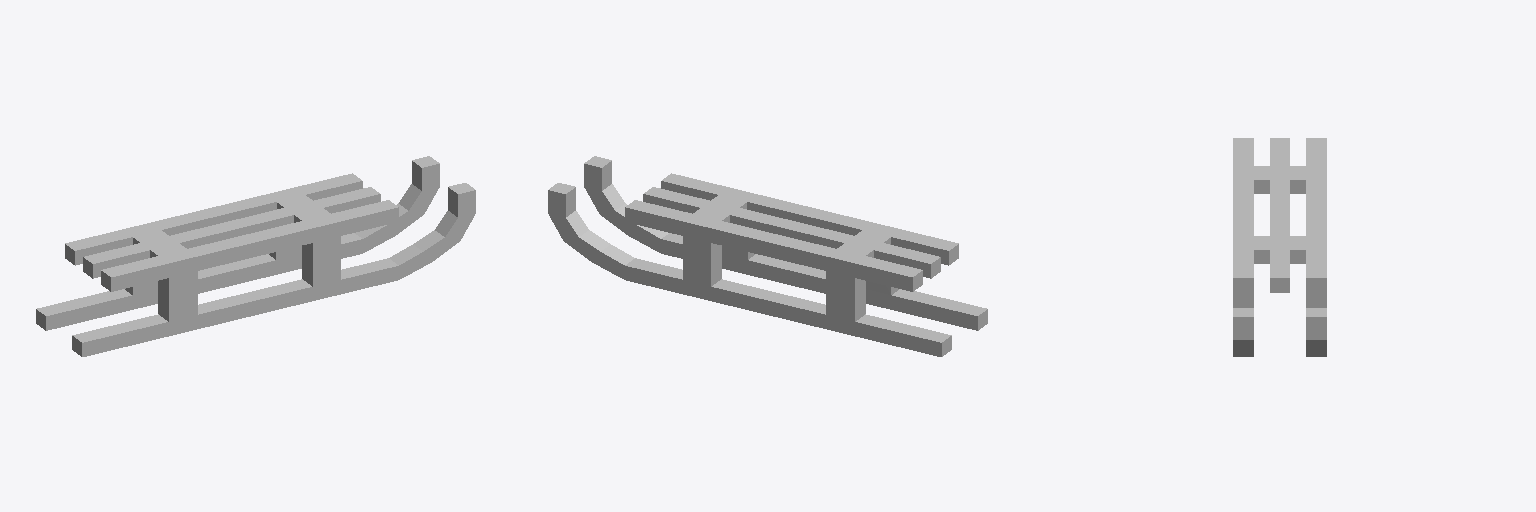
Rendered from Schlitten.obj.
3 views of the same model, side by side, from view 1: azimuth 30°, elevation 25°; view 2: azimuth 150°, elevation 25°; view 3: azimuth 270°, elevation 25° (orthographic).
Parts seen in each view (by area): view 1: Cube.001; view 2: Cube.001; view 3: Cube.001.
Part boxes in pixels (x1,y1,x2,y2): Cube.001: (36, 156, 475, 356); Cube.001: (548, 156, 987, 356); Cube.001: (1233, 138, 1326, 356).
Bounding box in the file's own units: 5.75 × 1.02 × 1.18.